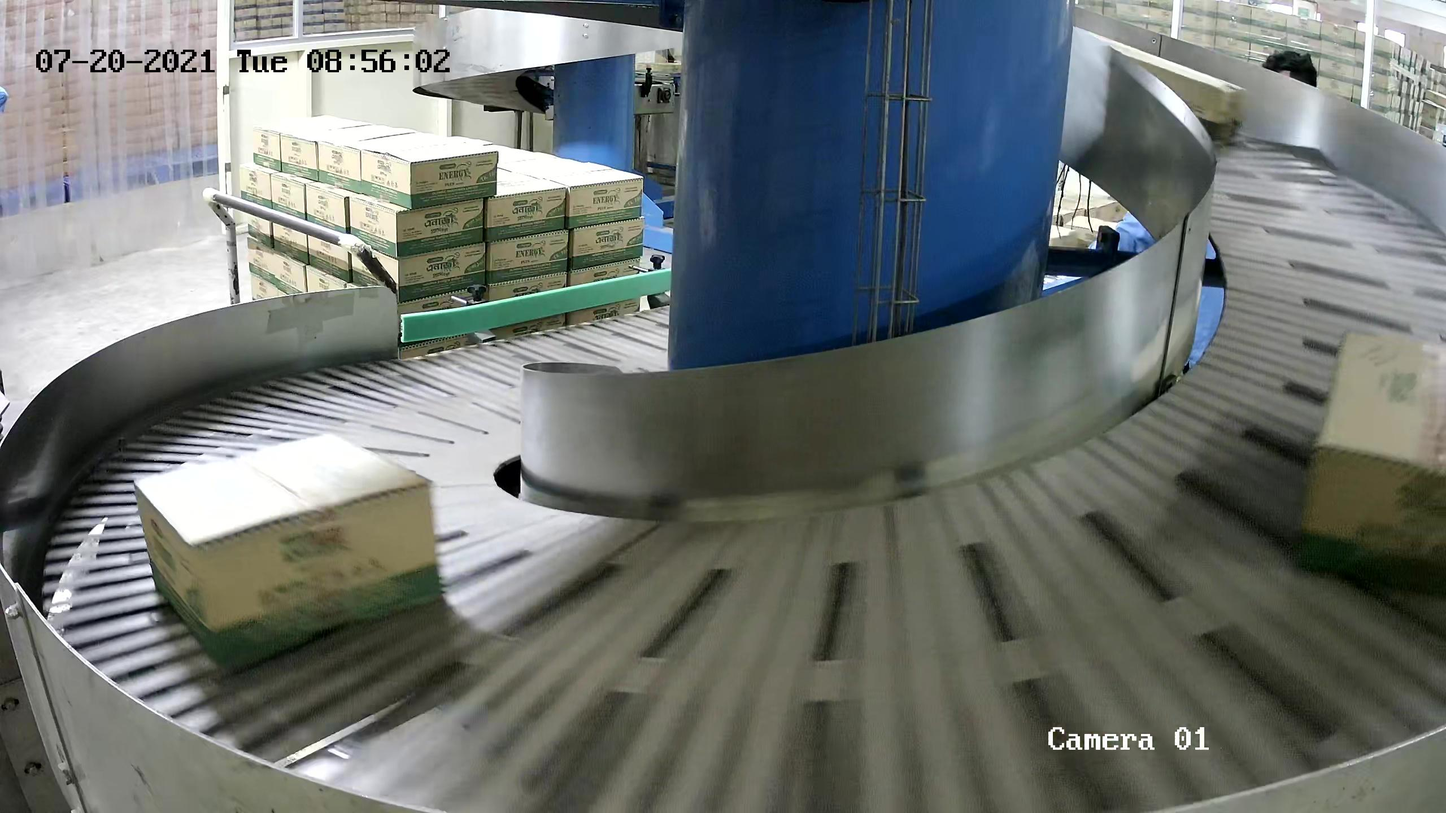Box: (132, 430, 445, 675), (1289, 326, 1446, 599), (1074, 25, 1250, 148)
